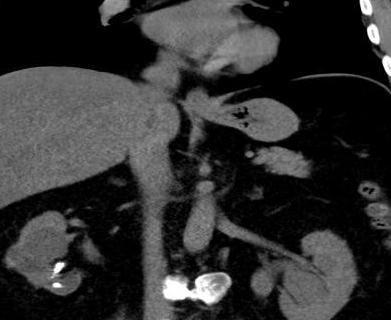Tas_Var: (51, 260, 66, 276), (51, 280, 63, 290)
